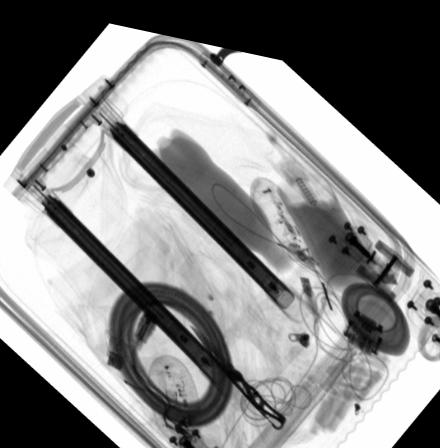Knife: (189, 317, 287, 416)
